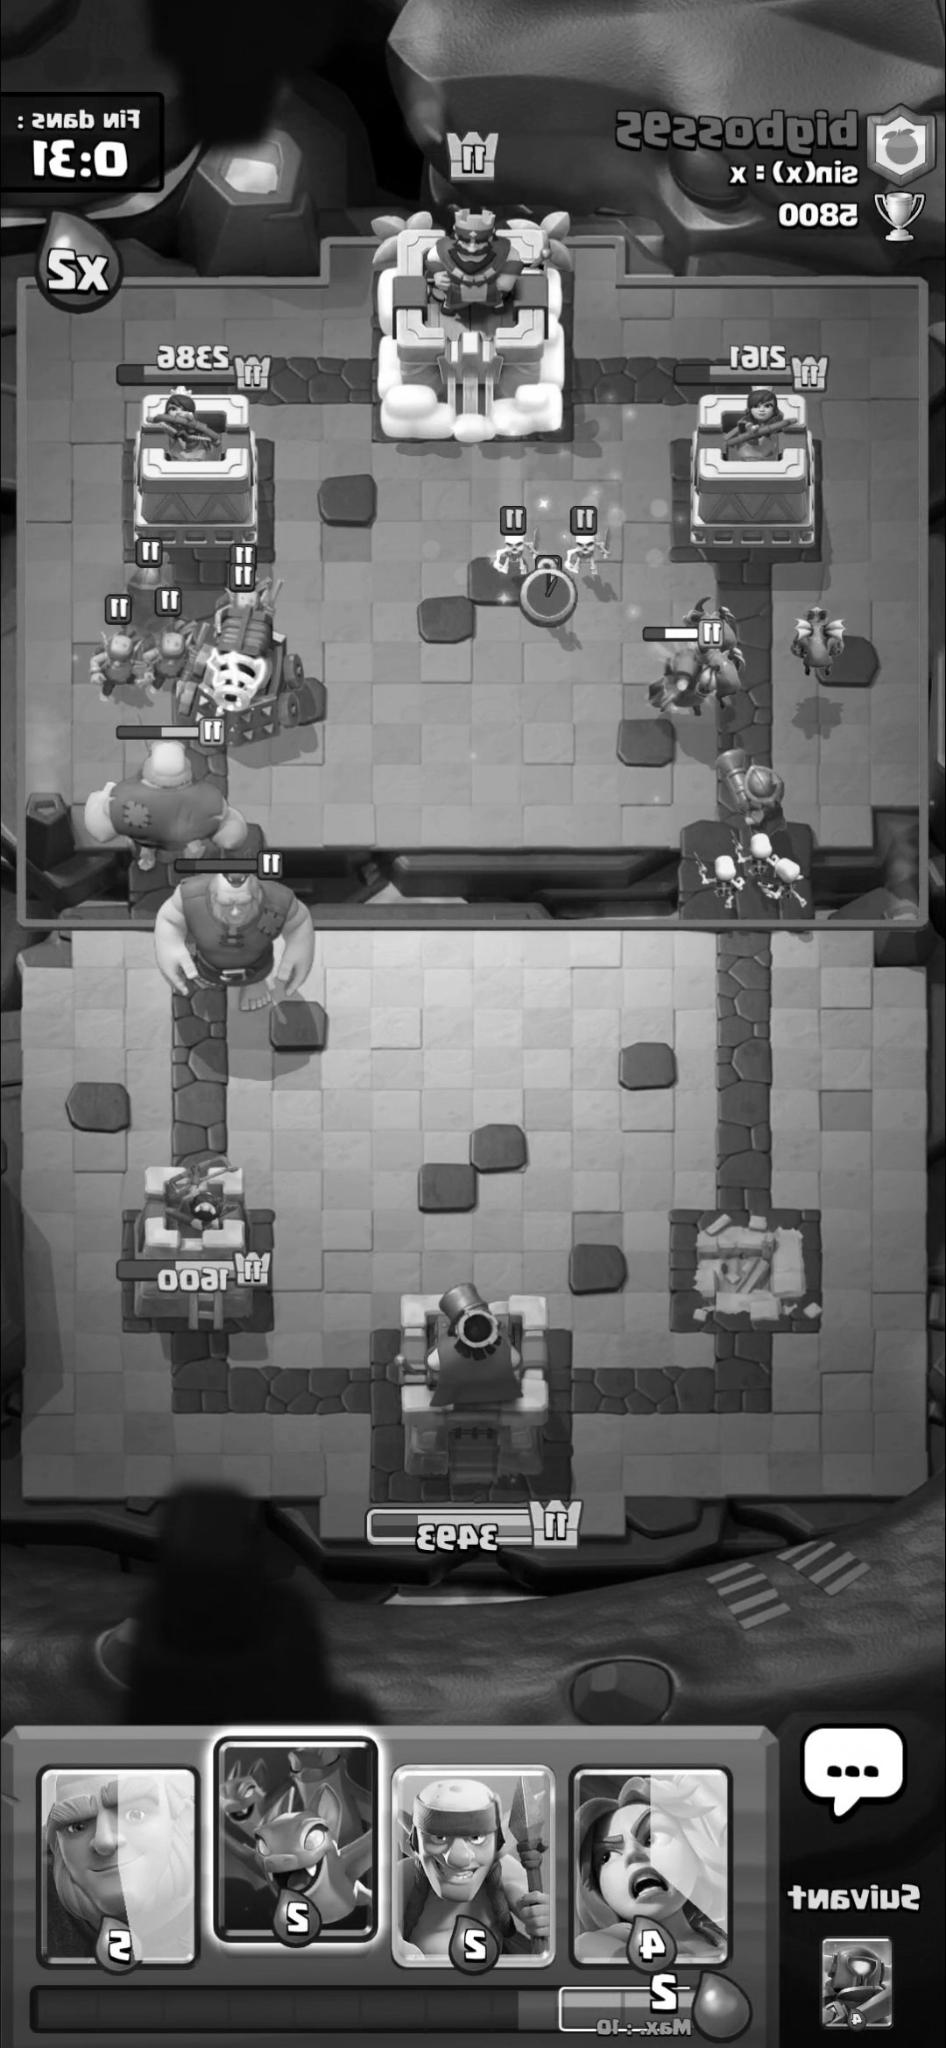gargouille: (789, 605, 839, 680), (693, 644, 747, 705), (683, 597, 740, 653)
geant: (152, 867, 316, 1010), (80, 746, 242, 874)
gobelin_lances: (78, 630, 150, 701), (136, 620, 193, 692)
mini_PEKKA: (647, 648, 703, 721)
mousquetaire: (115, 549, 180, 636), (720, 748, 784, 829)
squelette: (683, 856, 740, 910), (751, 857, 809, 910), (486, 525, 544, 579), (561, 526, 614, 583), (725, 831, 776, 878)
zappy: (175, 610, 302, 739)
